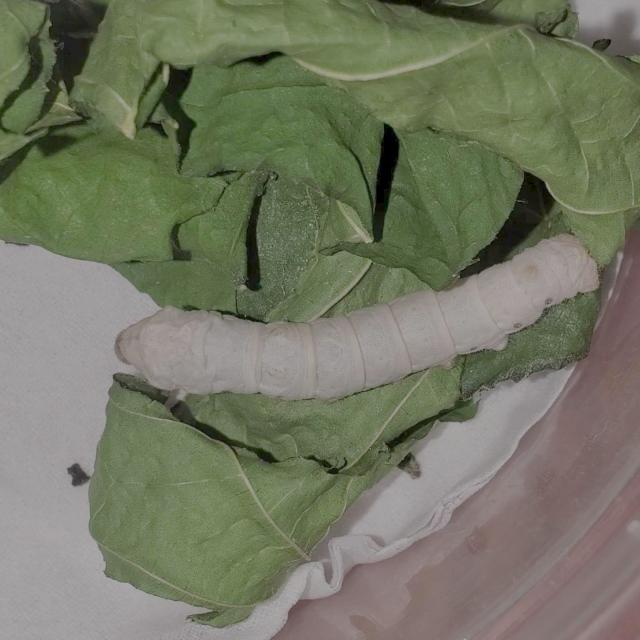Healthy: (98, 208, 638, 416)
